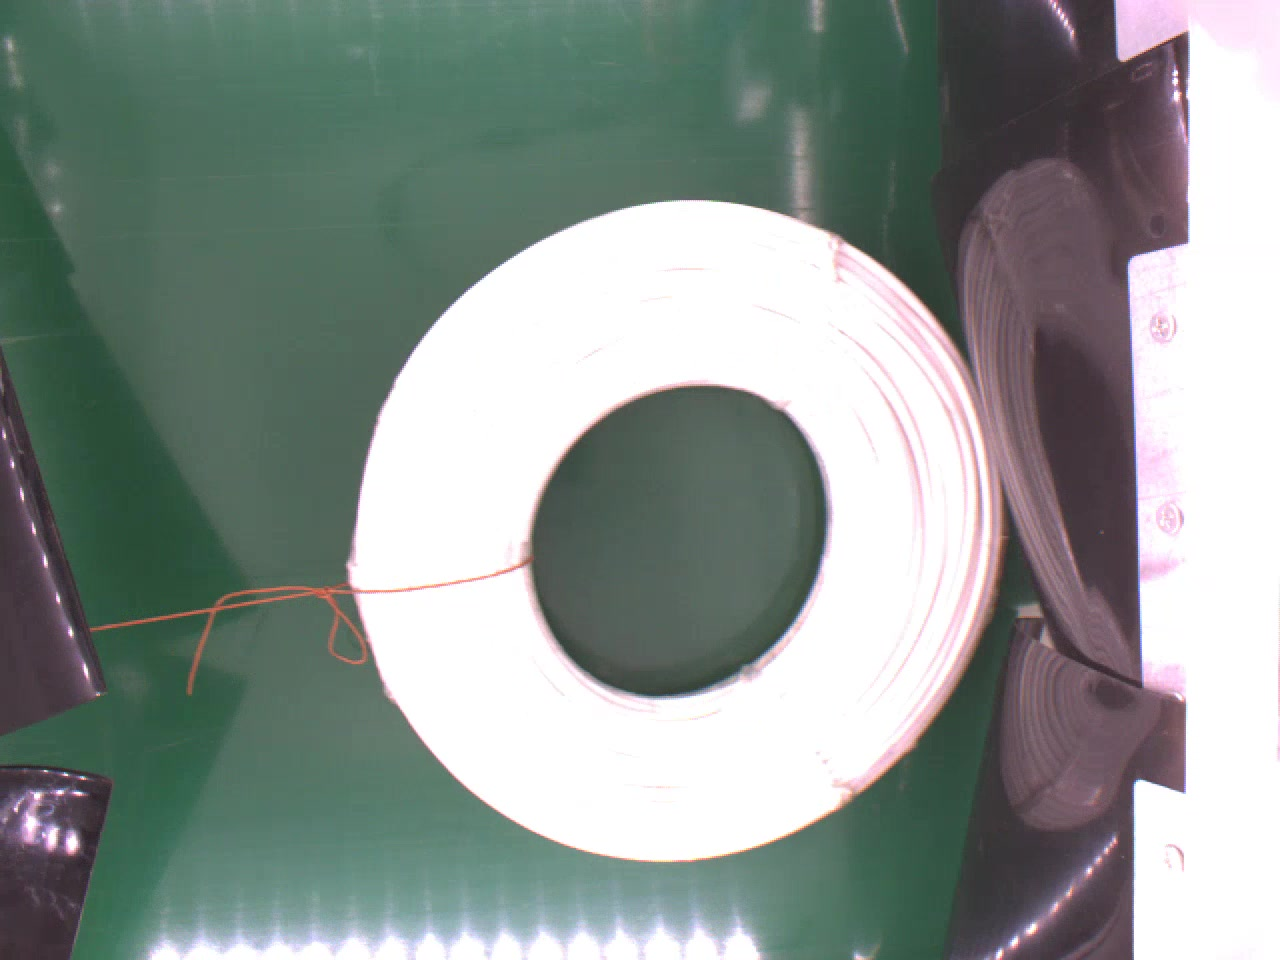white: (330, 195, 1014, 879)
